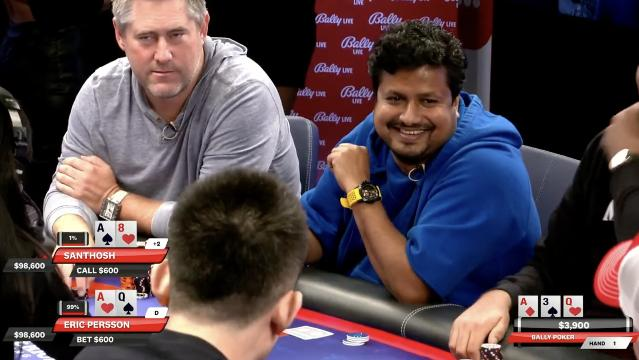3S: (542, 296, 562, 318)
8H: (116, 220, 136, 248)
AD: (518, 296, 540, 318)
AH: (96, 290, 117, 316)
AS: (96, 222, 117, 248)
QH: (563, 294, 583, 318)
QS: (118, 291, 138, 317)
